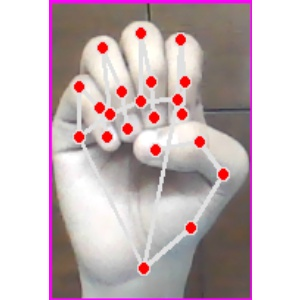E: (47, 1, 254, 300)
